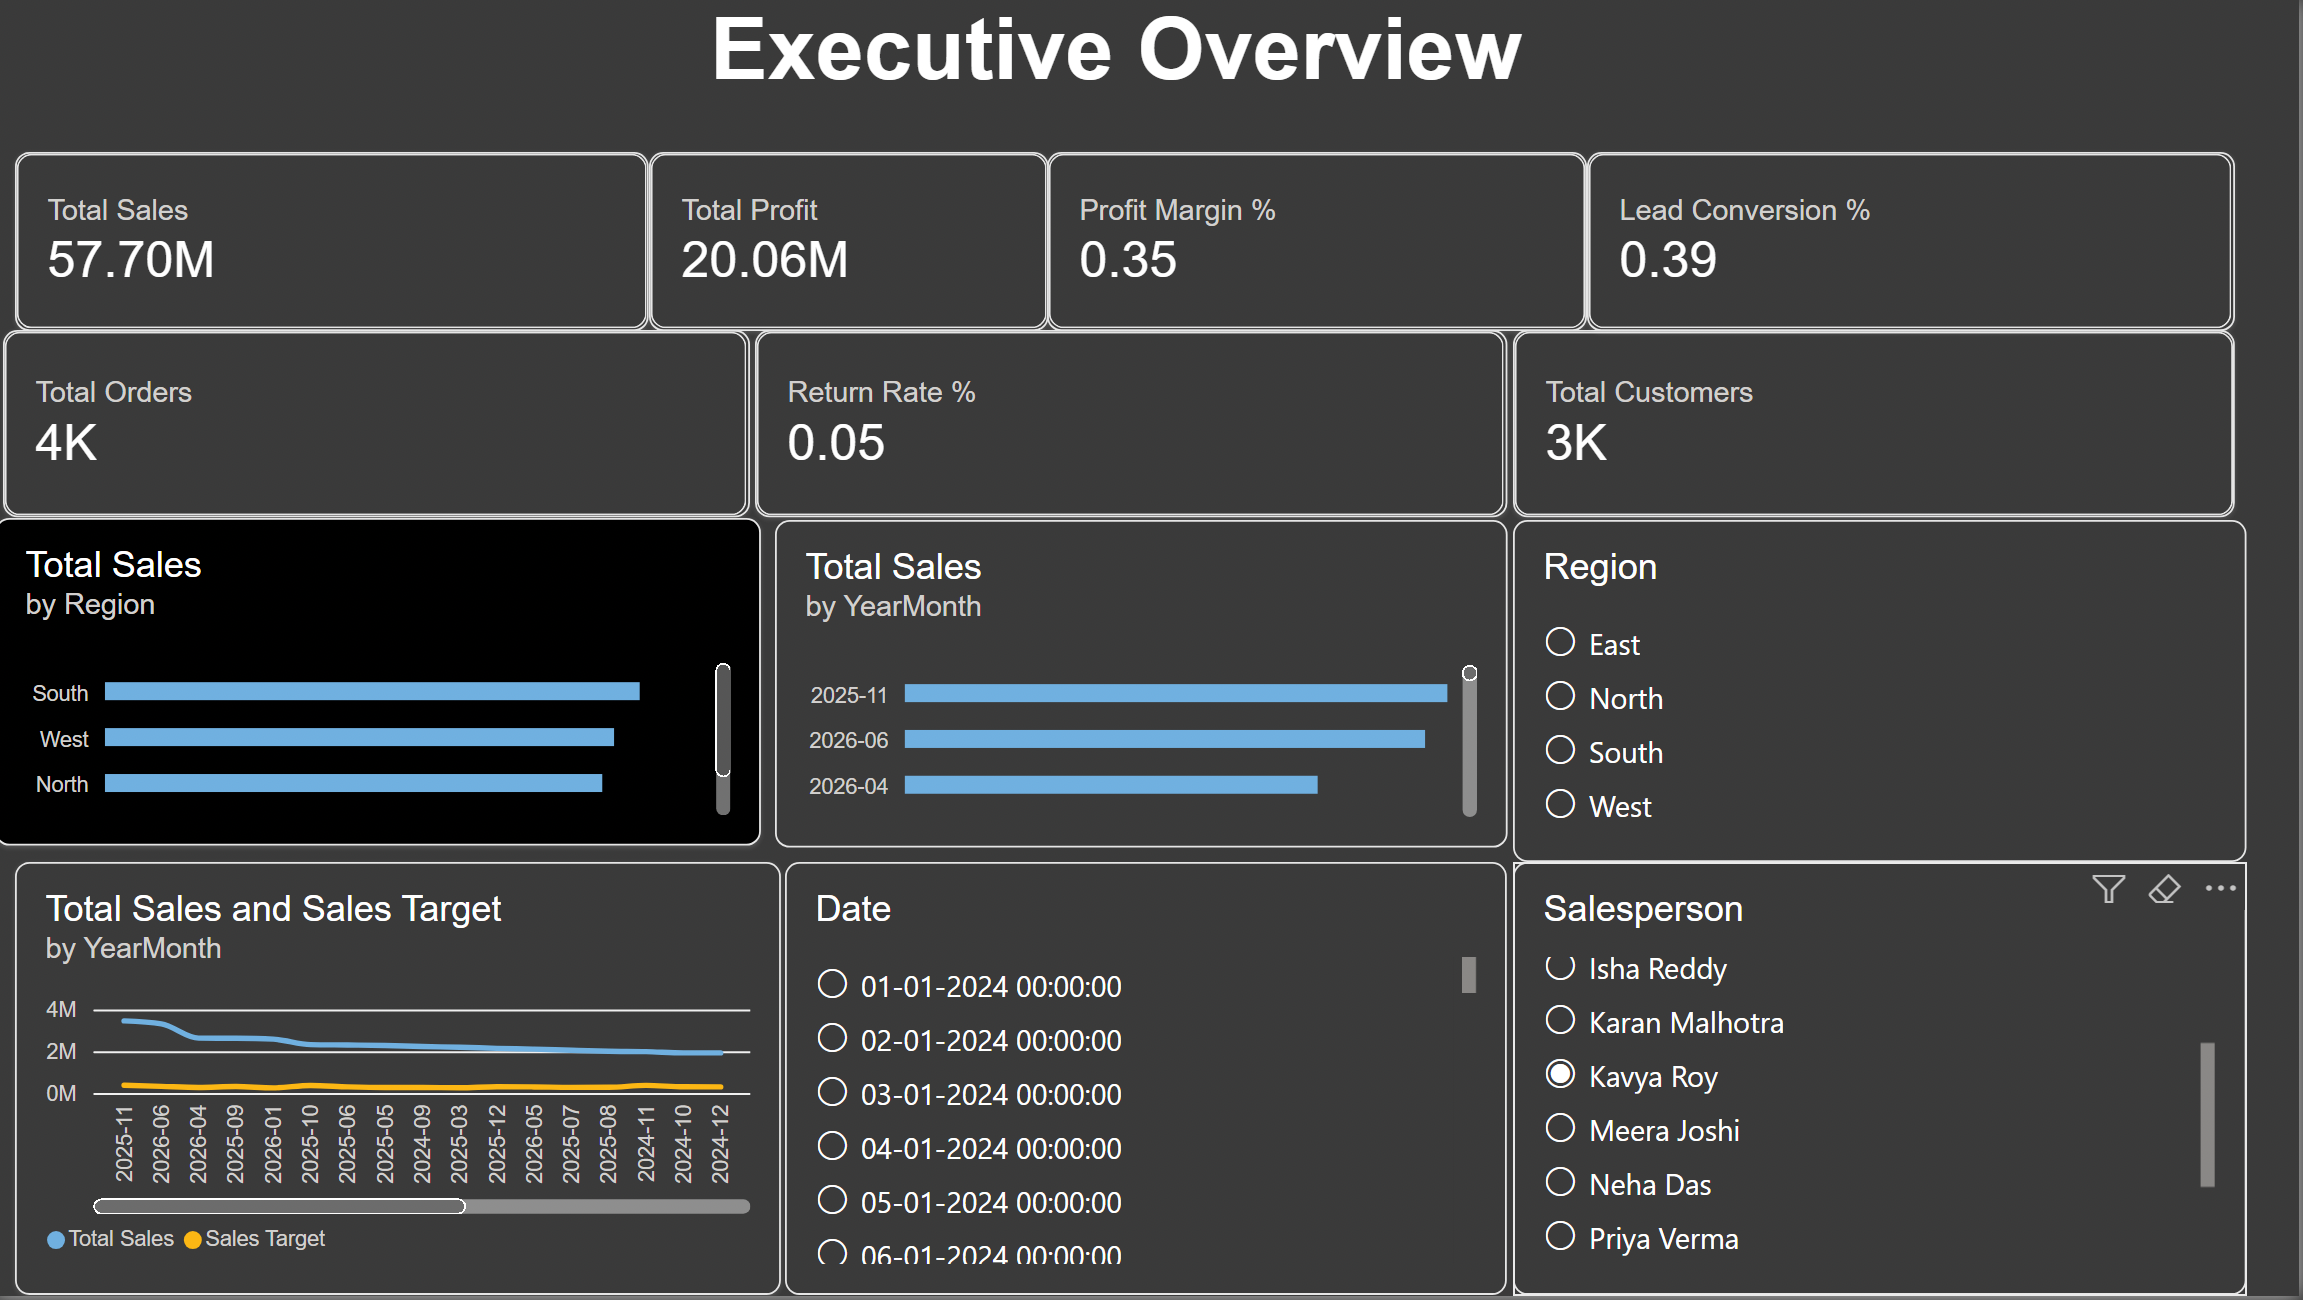

This screenshot's page, from the dashboard's own definition file:
{"tool":"powerbi","page":{"name":"Executive Overview","canvas":[1280,720],"ordinal":0},"visuals":[{"type":"cardVisual","fields":{"Data":["SalesTransactionsTable.Total Sales"]},"box":[10.7,84.2,352.2,99.5],"z":0},{"type":"cardVisual","fields":{"Data":["SalesTransactionsTable.Total Profit"]},"box":[362.9,84.2,222,99.5],"z":1000},{"type":"cardVisual","fields":{"Data":["SalesTransactionsTable.Total Orders"]},"box":[4.6,183.7,414.9,104.1],"z":2000},{"type":"cardVisual","fields":{"Data":["SalesTransactionsTable.Profit Margin %"]},"box":[584.9,84.2,300.1,99.5],"z":3000},{"type":"cardVisual","fields":{"Data":["SalesTransactionsTable.Total Customers"]},"box":[843.6,183.7,401.1,104.1],"z":4000},{"type":"cardVisual","fields":{"Data":["SalesTransactionsTable.Return Rate %"]},"box":[422.6,183.7,418,104.1],"z":5000},{"type":"cardVisual","fields":{"Data":["SalesTransactionsTable.Lead Conversion %"]},"box":[885,84.2,359.8,99.5],"z":6000},{"type":"lineChart","fields":{"Category":["DateTable.YearMonth"],"Y":["SalesTransactionsTable.Total Sales","SalesTransactionsTable.Sales Target"]},"box":[10.7,479.2,425.6,240.4],"z":7000},{"type":"clusteredBarChart","fields":{"Category":["SalesTransactionsTable.Region"],"Y":["SalesTransactionsTable.Total Sales"]},"box":[0,287.8,425.6,182.2],"z":8000},{"type":"clusteredBarChart","fields":{"Category":["DateTable.YearMonth"],"Y":["SalesTransactionsTable.Total Sales"]},"box":[433.3,289.4,407,182],"z":9000},{"type":"listSlicer","fields":{"Values":["DateTable.Date"]},"box":[439.4,479.2,401.1,240.4],"z":10000},{"type":"listSlicer","fields":{"Values":["SalesTransactionsTable.Region"]},"box":[843.6,289.4,407.3,189.9],"z":11000},{"type":"listSlicer","fields":{"Values":["DimSalesperson.Salesperson"]},"box":[843.6,479.2,407.3,240.4],"z":12000},{"type":"textbox","box":[10.7,0,1223.3,84.2],"z":13000}]}

Visuals, with their boxes in screenshot pixels (x1, y1, x2, y2), scaled from the page's 1280x720 canvas onto the 2303x1300 screenshot:
cardVisual - SalesTransactionsTable.Total Sales: box(19, 152, 653, 332)
cardVisual - SalesTransactionsTable.Total Profit: box(653, 152, 1052, 332)
cardVisual - SalesTransactionsTable.Total Orders: box(8, 332, 755, 520)
cardVisual - SalesTransactionsTable.Profit Margin %: box(1052, 152, 1592, 332)
cardVisual - SalesTransactionsTable.Total Customers: box(1518, 332, 2239, 520)
cardVisual - SalesTransactionsTable.Return Rate %: box(760, 332, 1512, 520)
cardVisual - SalesTransactionsTable.Lead Conversion %: box(1592, 152, 2240, 332)
lineChart - DateTable.YearMonth x SalesTransactionsTable.Total Sales: box(19, 865, 785, 1299)
clusteredBarChart - SalesTransactionsTable.Region x SalesTransactionsTable.Total Sales: box(0, 520, 766, 849)
clusteredBarChart - DateTable.YearMonth x SalesTransactionsTable.Total Sales: box(780, 523, 1512, 851)
listSlicer - DateTable.Date: box(791, 865, 1512, 1299)
listSlicer - SalesTransactionsTable.Region: box(1518, 523, 2251, 865)
listSlicer - DimSalesperson.Salesperson: box(1518, 865, 2251, 1299)
textbox: box(19, 0, 2220, 152)
